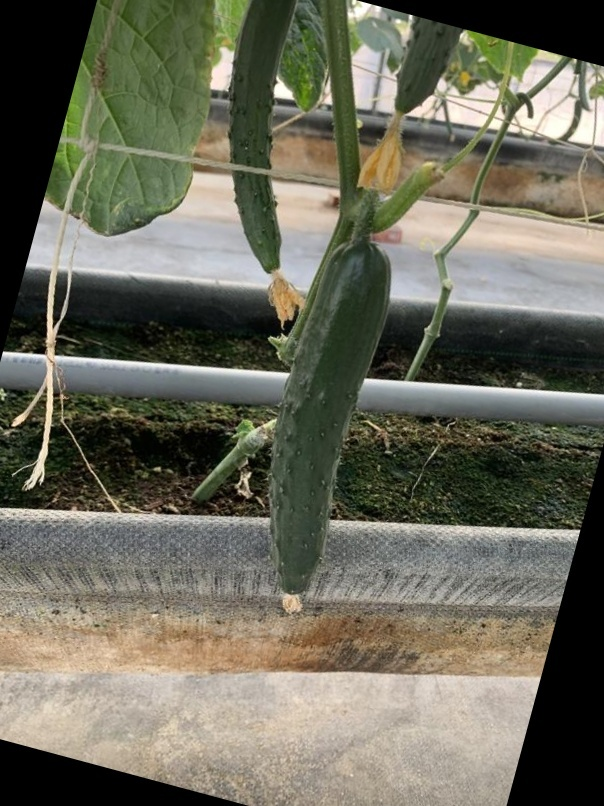mature: (268, 243, 394, 603), (225, 0, 302, 277)
